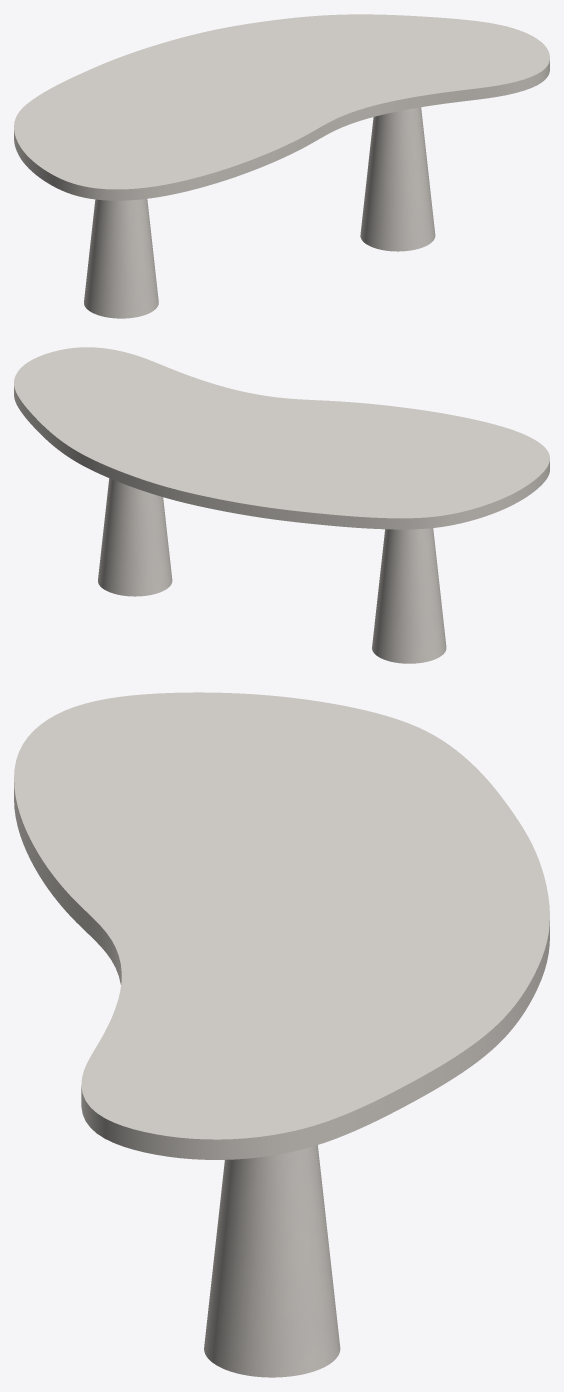
Rendered from pearlwhite_leaf1_standard_pebble.glb.
The picture shows the model from 3 angles, top to bottom: view 1: azimuth 30°, elevation 25°; view 2: azimuth 150°, elevation 25°; view 3: azimuth 270°, elevation 25°; orthographic projection. The views are drawn at different scales.
Visible parts, largest first — view 1: standard_leaf1, pebble; view 2: standard_leaf1, pebble; view 3: standard_leaf1, pebble.
Boxes of the visible parts, x1,y1,x2,y2 form: standard_leaf1: [14, 14, 549, 200]; pebble: [84, 107, 435, 318]; standard_leaf1: [14, 347, 549, 529]; pebble: [98, 478, 446, 663]; standard_leaf1: [14, 692, 549, 1159]; pebble: [204, 1145, 340, 1377].
Bounding box in the file's own units: 7.5 × 2.51 × 3.8.
Materials: 1 (1 with a texture image).
